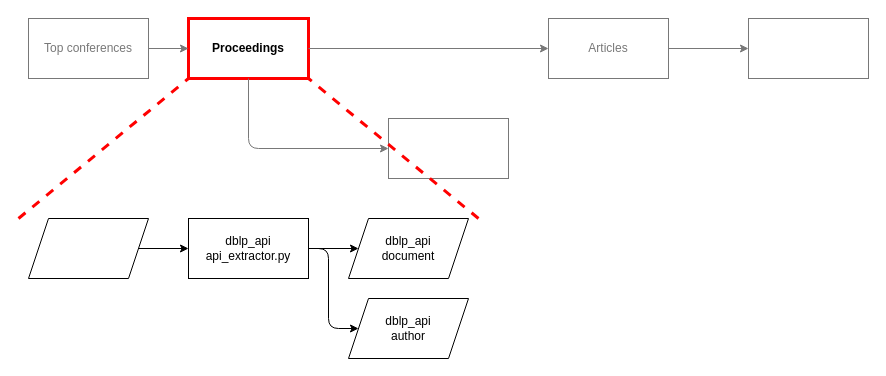
This 886x376 diagram has some shape labels left out. Each missing label, with the centre of its shape:
"Citations" belongs at point 808,48.
"core conferences" belongs at point 88,248.
"PC Members" belongs at point 448,148.
